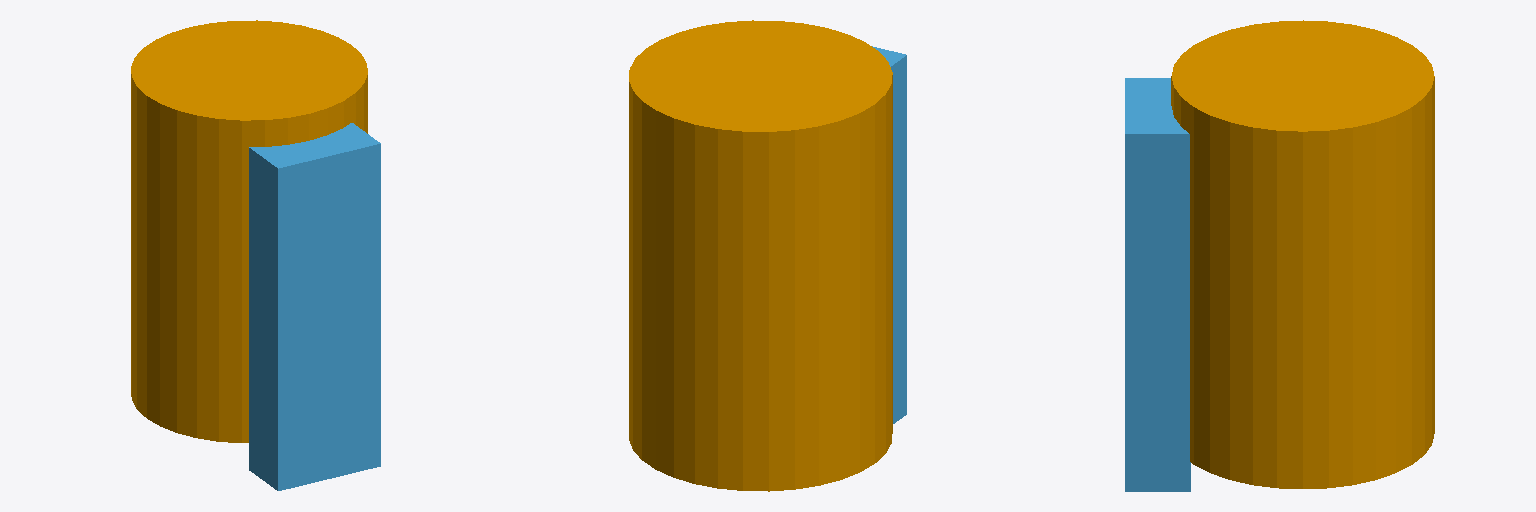
robot.urdf — origins:
<?xml version="1.0"?>
<robot name="origins">
  <link name="base_link">
    <visual>
      <geometry>
        <cylinder length="0.6" radius="0.2"/>
      </geometry>
    </visual>
  </link>

  <link name="right_leg">
    <visual>
      <geometry>
        <box size="0.6 0.1 0.2"/>
      </geometry>
      <origin rpy="0 1.57075 0" xyz="0 0 -0.3"/>
    </visual>
  </link>

  <joint name="base_to_right_leg" type="fixed">
    <parent link="base_link"/>
    <child link="right_leg"/>
    <origin xyz="0 -0.22 0.25"/>

  </joint>

</robot>

--- Render facts (derived) ---
3 views of the same robot in one strip: view 1: azimuth 30°, elevation 25°; view 2: azimuth 150°, elevation 25°; view 3: azimuth 270°, elevation 25° (orthographic).
Robot: origins — 2 links, 1 joints (1 fixed); root link base_link; default pose: every joint at zero.
Visible links, largest first — view 1: base_link, right_leg; view 2: base_link, right_leg; view 3: base_link, right_leg.
Boxes of the visible links, bbox=[...] form: base_link: bbox=[131, 20, 367, 442]; right_leg: bbox=[249, 123, 380, 490]; base_link: bbox=[629, 20, 892, 491]; right_leg: bbox=[872, 46, 906, 423]; base_link: bbox=[1171, 20, 1434, 488]; right_leg: bbox=[1125, 78, 1190, 491].
Bounding box of the posed robot: 0.4 × 0.47 × 0.65 m (x, y, z).
Geometry: primitives only (box / cylinder / sphere), no mesh files.